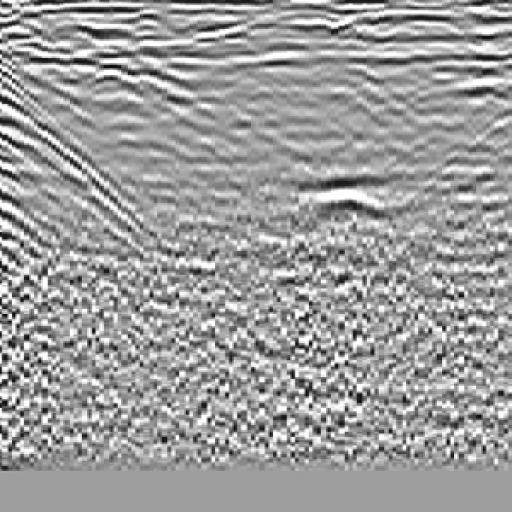metalic: (241, 51, 432, 282)
nonmetalic: (2, 44, 151, 311)
